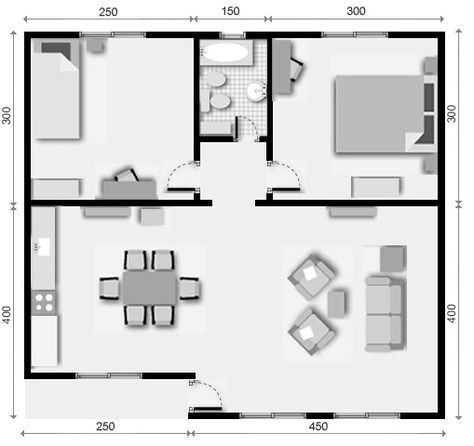door: (164, 157, 209, 194), (260, 160, 305, 192), (186, 381, 225, 415)
room: (239, 198, 449, 421), (17, 202, 229, 378), (264, 30, 451, 216), (21, 29, 202, 208), (186, 28, 282, 210)
wall: (436, 26, 448, 422), (22, 29, 34, 382), (253, 193, 447, 214), (22, 197, 214, 211), (190, 29, 206, 167), (263, 33, 276, 166), (244, 26, 324, 44), (145, 28, 224, 45), (23, 365, 78, 387), (139, 366, 199, 386), (386, 27, 448, 46), (30, 26, 83, 44), (186, 408, 241, 425), (398, 406, 447, 424), (201, 131, 236, 146), (305, 408, 336, 423), (257, 135, 276, 146)
window: (82, 25, 145, 47), (324, 27, 387, 48), (241, 407, 303, 425), (337, 408, 398, 424), (77, 370, 141, 385)
